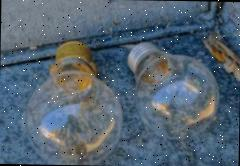lightbulb: (25, 39, 124, 165), (126, 41, 220, 142)
